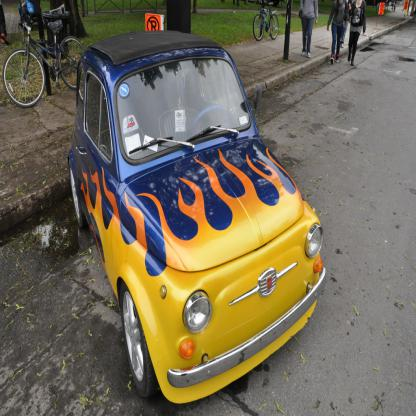Car: (68, 31, 326, 404)
